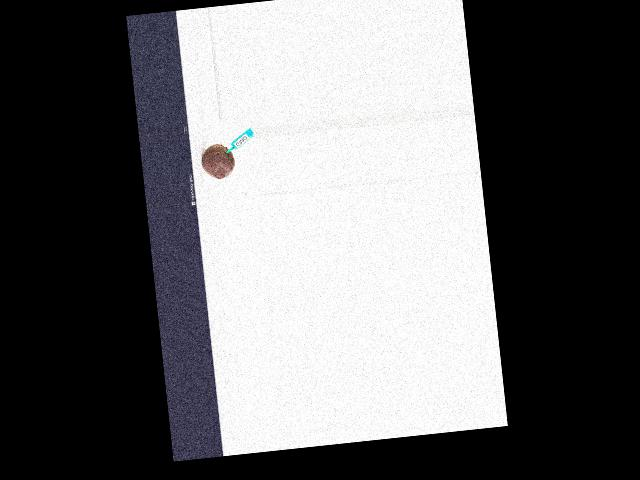beet: (199, 142, 236, 180)
